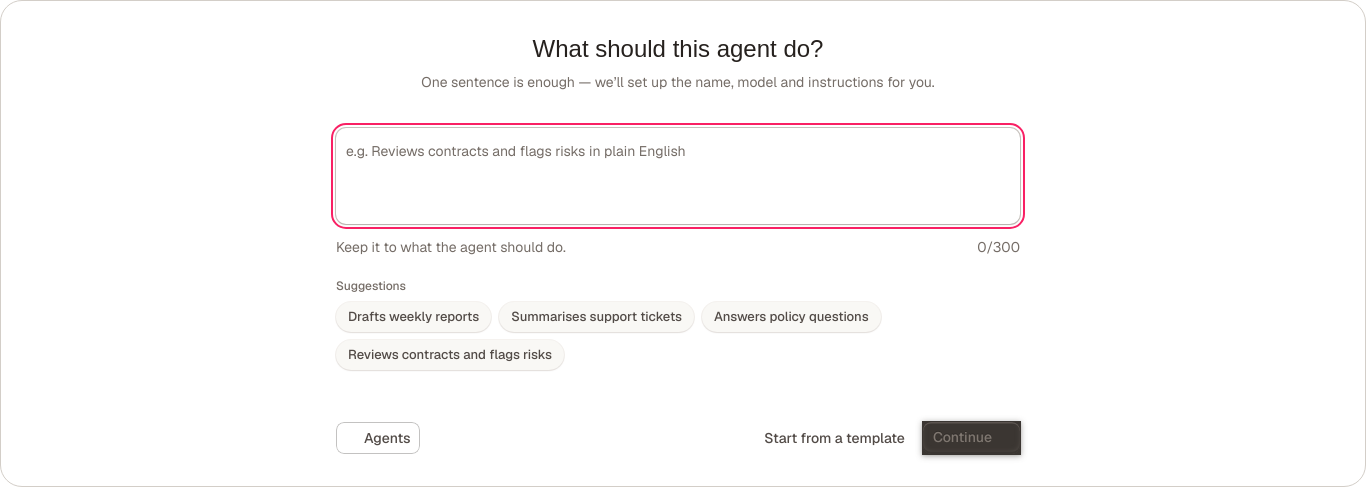
/agents/new › fills the purpose from a starter chip
This screenshot has width=1366, height=504.
Click the button "Drafts weekly reports" at (414, 317), box [336,302,491,332]
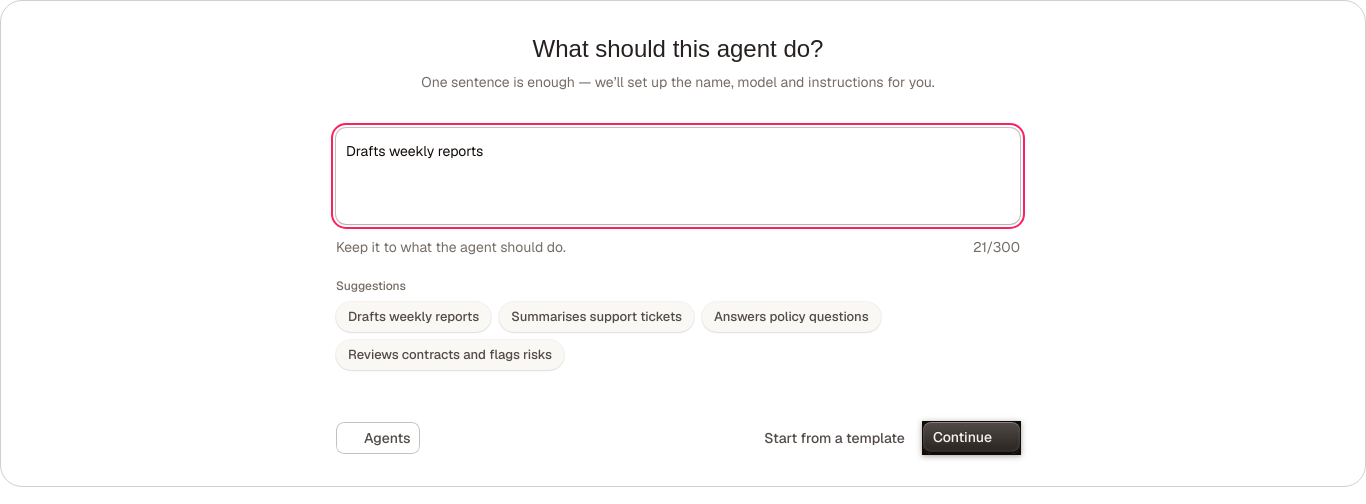
Expected: the text box named "Agent purpose" holds "Drafts weekly reports", [346,140,1010,206]
